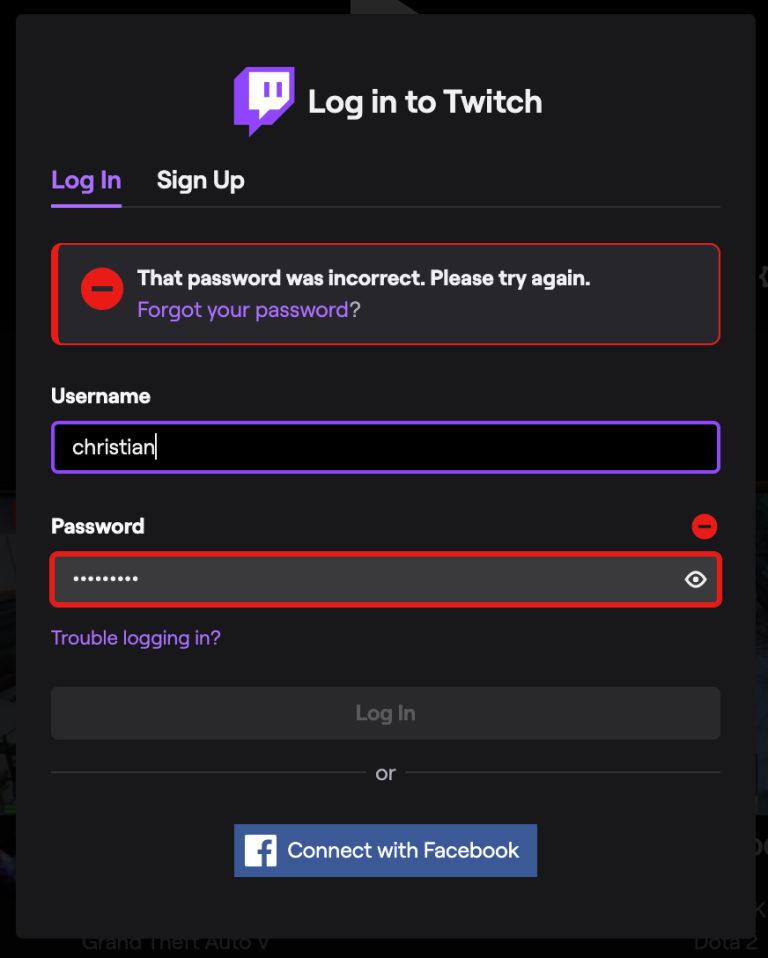error_field: (47, 548, 721, 608)
